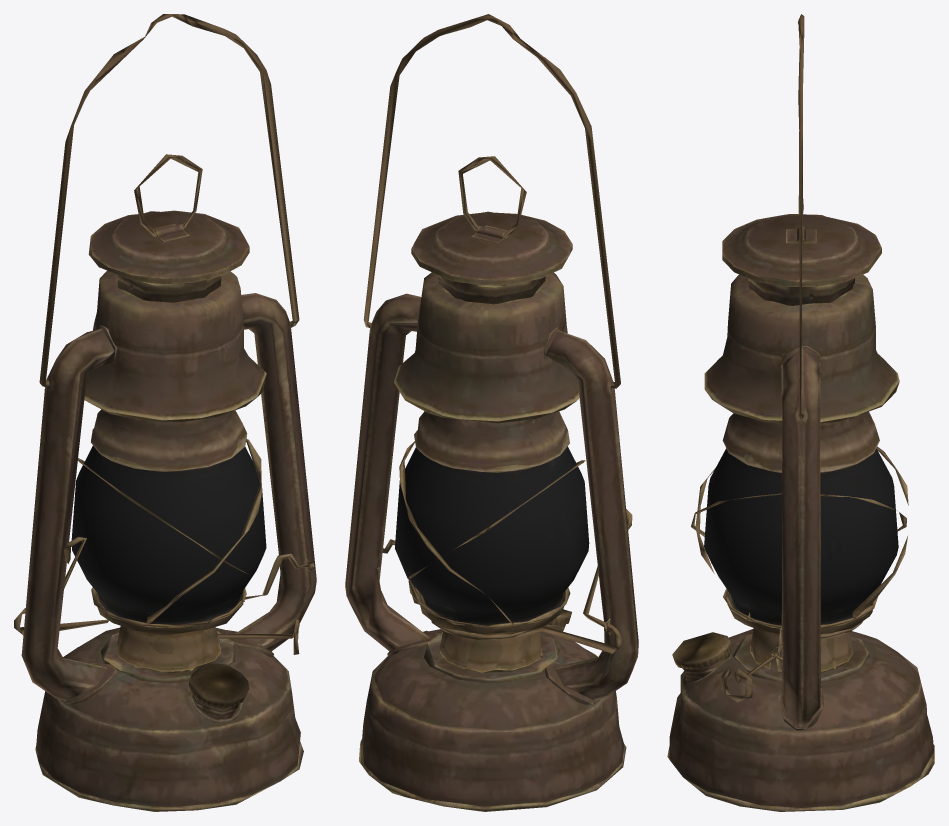
File: assets__ph__Lantern_01.glb
The picture shows the model from 3 angles, left to right: view 1: azimuth 30°, elevation 25°; view 2: azimuth 150°, elevation 25°; view 3: azimuth 270°, elevation 25°; orthographic projection.
Visible parts, largest first — view 1: Lantern_01, Lantern_01_glass; view 2: Lantern_01, Lantern_01_glass; view 3: Lantern_01, Lantern_01_glass.
Boxes of the visible parts, box(x1,y1,x2,y2) form: Lantern_01: box(14, 14, 316, 811); Lantern_01_glass: box(71, 446, 266, 624); Lantern_01: box(345, 14, 638, 811); Lantern_01_glass: box(395, 446, 589, 624); Lantern_01: box(667, 14, 934, 811); Lantern_01_glass: box(704, 448, 898, 624).
Size of the model in its own units: 0.1216 by 0.2933 by 0.0962.
Materials: 2 (2 with a texture image).
